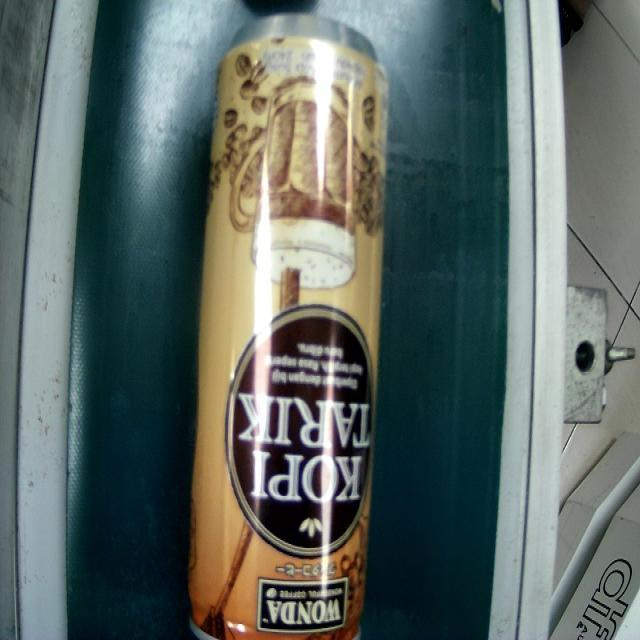can: (204, 20, 386, 640)
